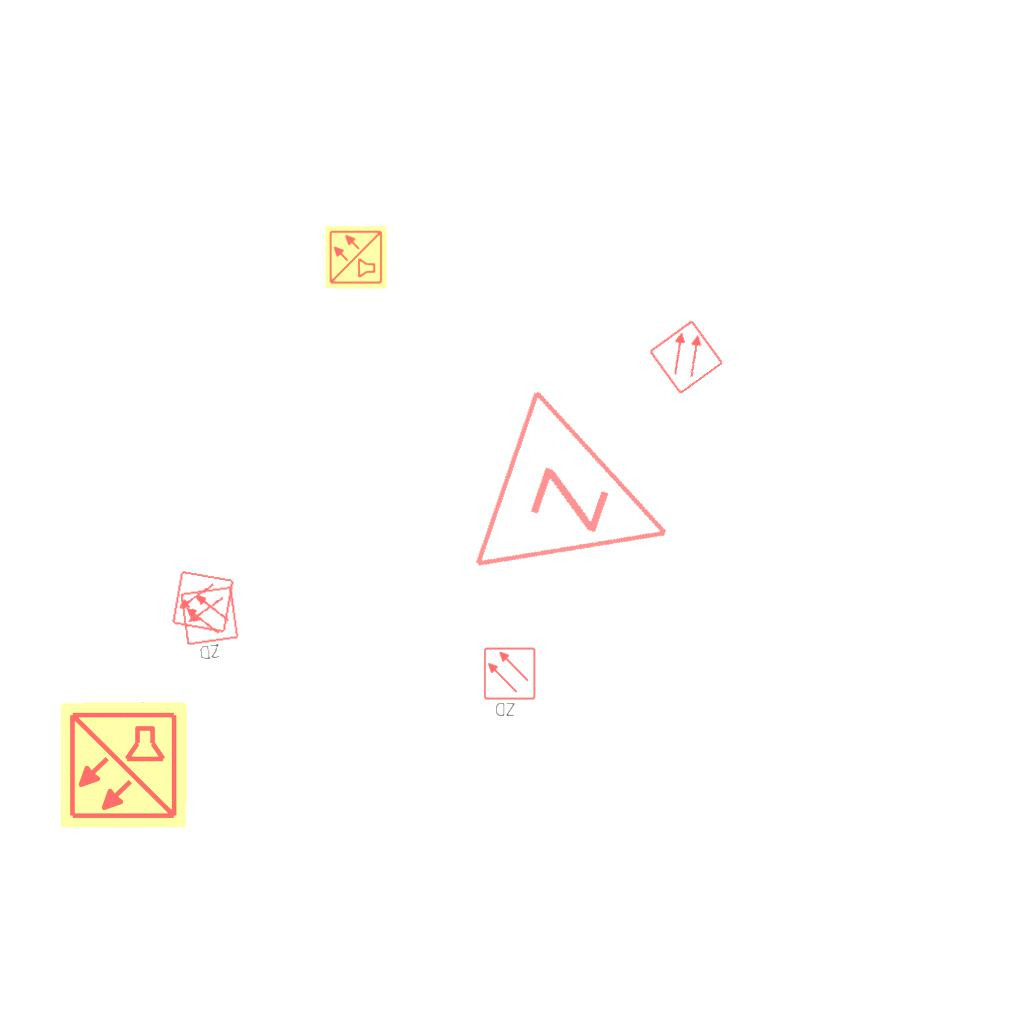OKW_Multisensormelder_(Kombination_optischer_Rauch-Kahlenmonoxid_Waerme-Melder): (57, 699, 189, 831), (323, 224, 389, 290)
RMO_Rauchmelder_optischer: (646, 317, 726, 397), (170, 569, 236, 635)
ZD_Melder_in_Zwischendecke_mit_Revisionsoeffnung_mind_40_x_40_cm: (178, 584, 245, 666), (482, 646, 539, 720)
Zimmersignalleuchte: (459, 377, 713, 629)
